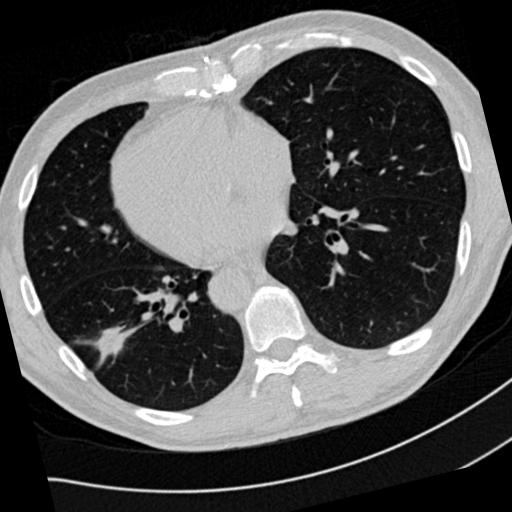nodule: (90, 319, 136, 365)
